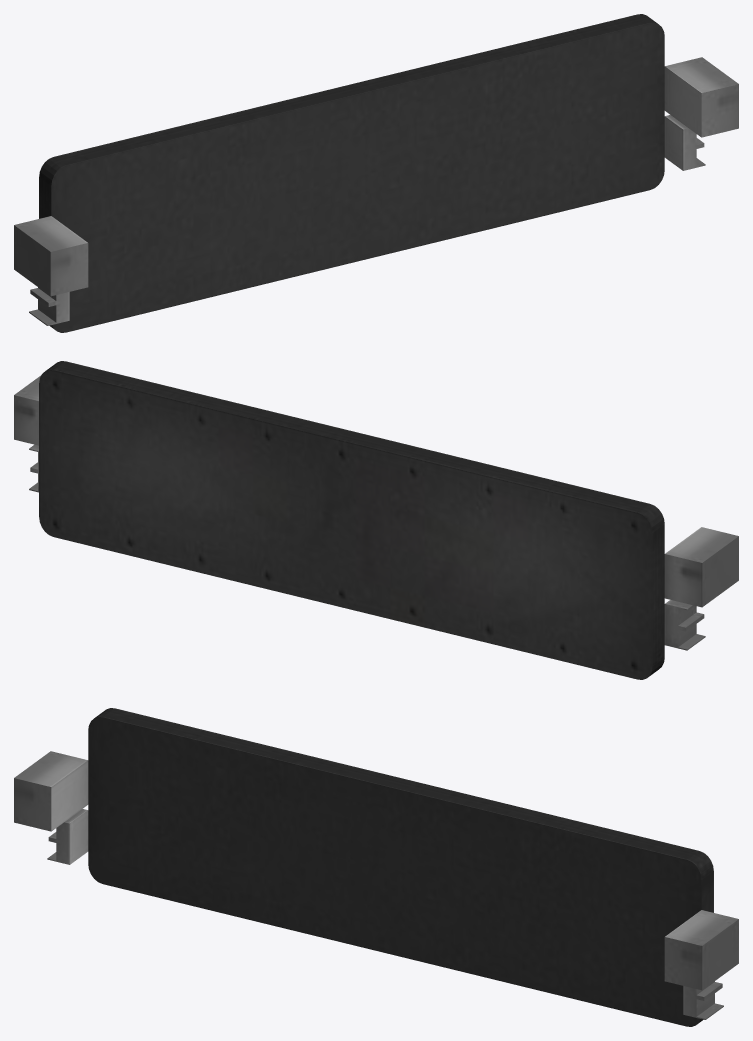
File: ME1AVPlateforme.fbx
The picture shows the model from 3 angles, top to bottom: view 1: azimuth 30°, elevation 25°; view 2: azimuth 150°, elevation 25°; view 3: azimuth 330°, elevation 25°; orthographic projection.
Parts seen in each view (by area): view 1: ShapeIndexedFaceSet; view 2: ShapeIndexedFaceSet; view 3: ShapeIndexedFaceSet.
Boxes of the visible parts, x1,y1,x2,y2 form: ShapeIndexedFaceSet: (14, 14, 738, 332); ShapeIndexedFaceSet: (14, 361, 738, 679); ShapeIndexedFaceSet: (14, 708, 738, 1026).
Size of the model in its own units: 6.48 by 1.5 by 0.8.
